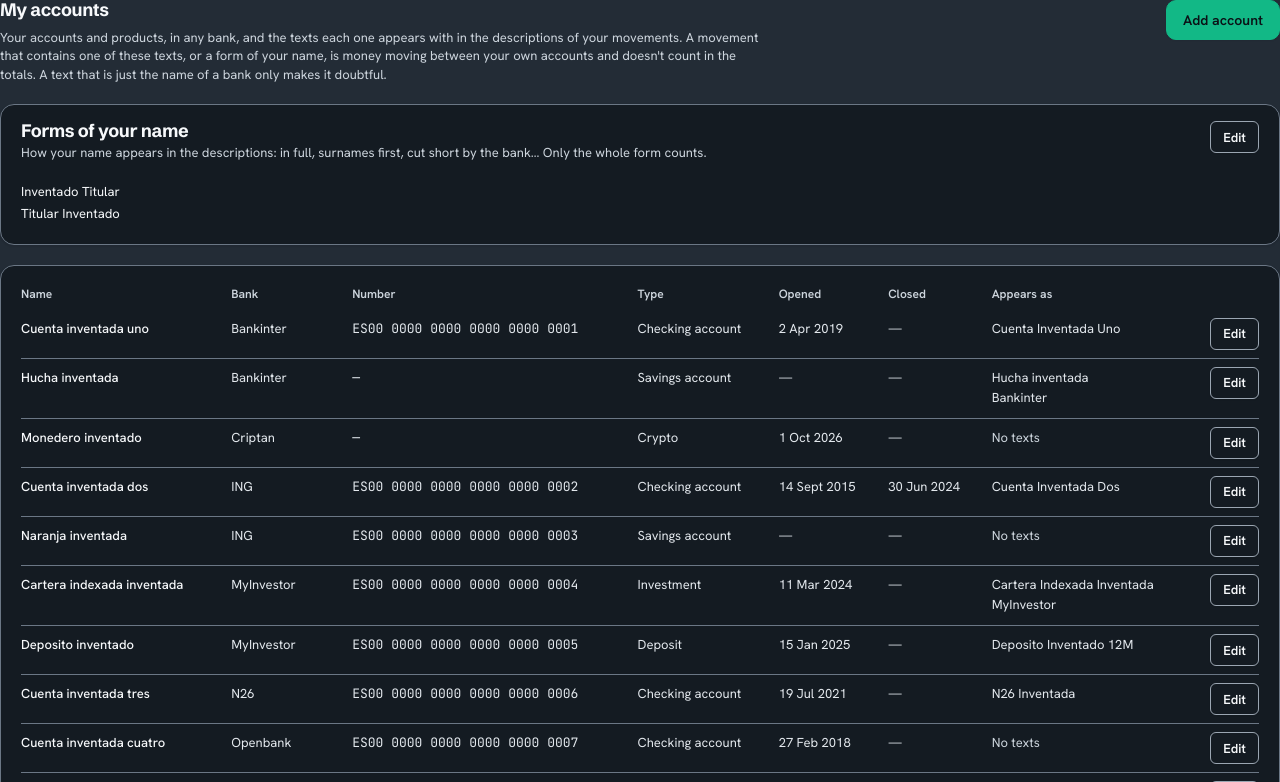
Test: OwnAccountsView › adding an account from the header button shows the new row
The image size is (1280, 782).
Click the button with test id "own-accounts-add" at (1223,20), box top-left (1166, 0), bottom-right (1279, 40)
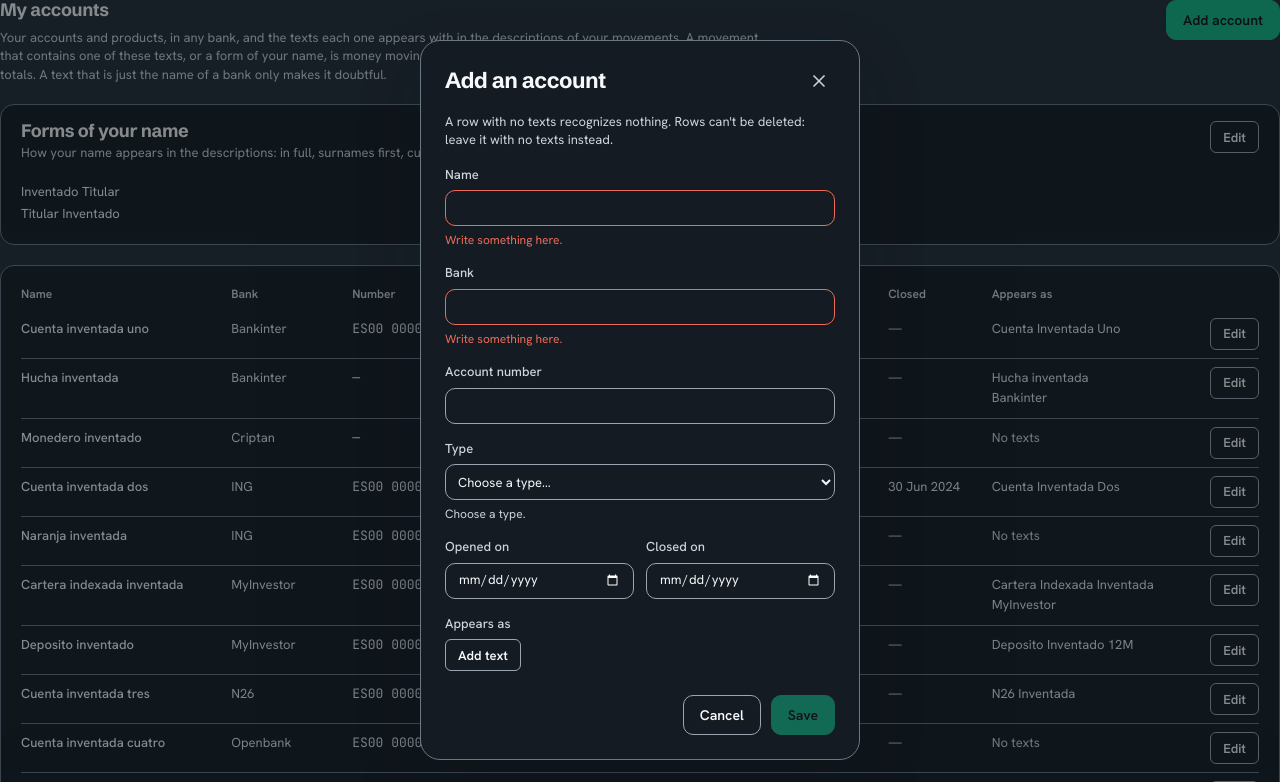
Check: the heading "Add an account" is shown, box top-left (445, 68), bottom-right (606, 93)
Type "Monedero inventado dos" into the field labelled "Name" at (640,208), box top-left (445, 190), bottom-right (835, 226)
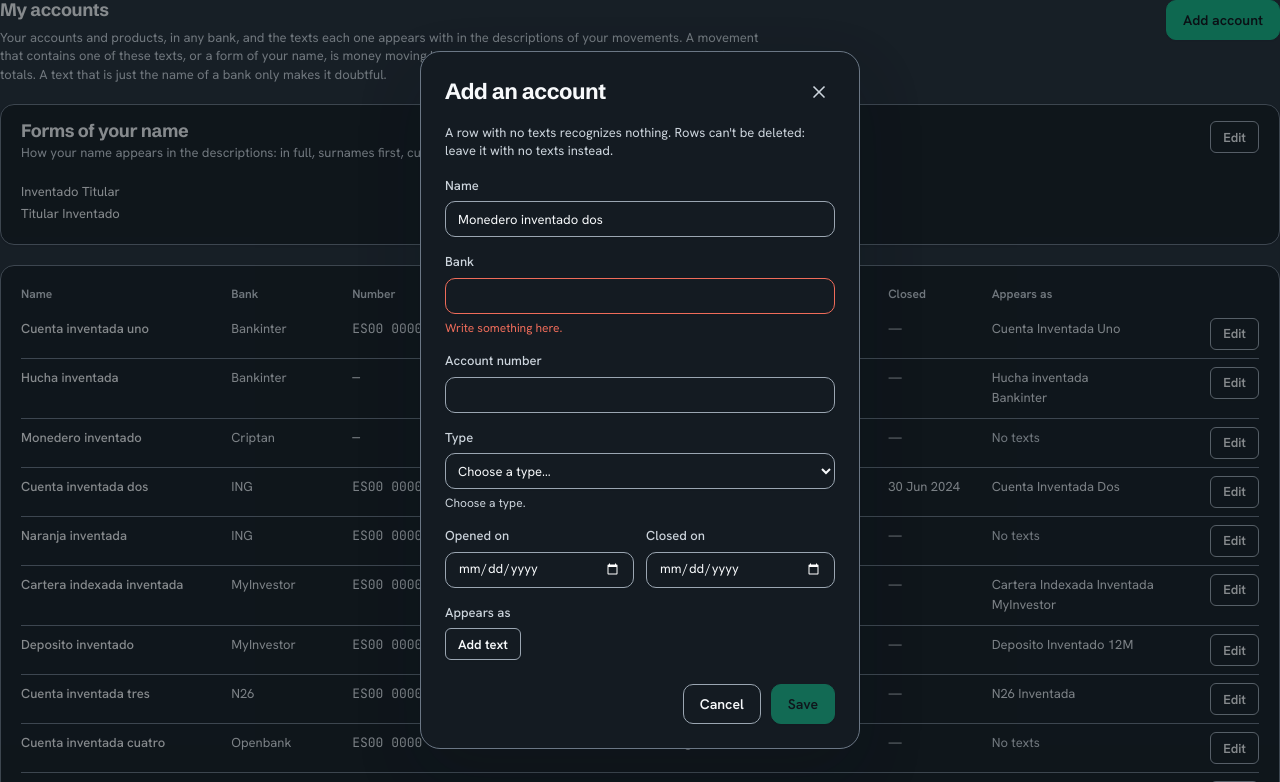
Type "Criptan" into the field labelled "Bank" at (640,296), box top-left (445, 278), bottom-right (835, 314)
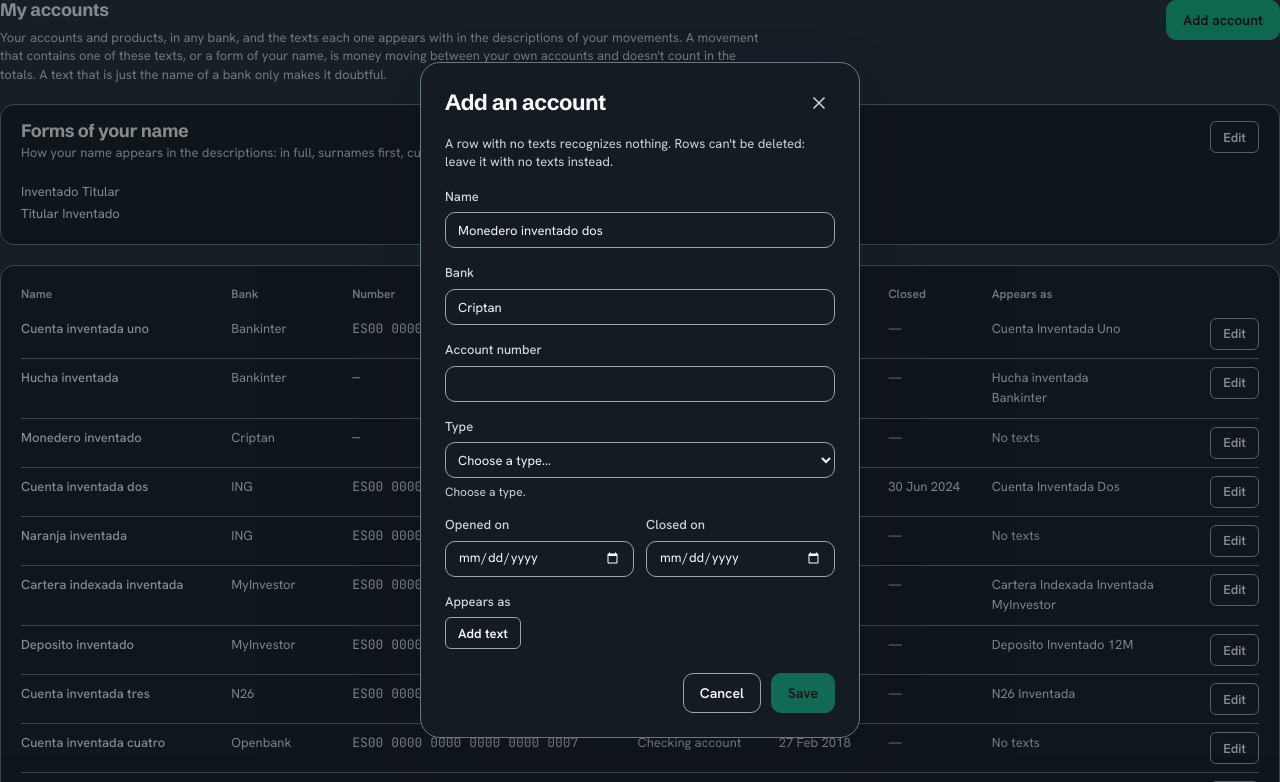
Select "Crypto" in the dropdown labelled "Type" at (640,460), box top-left (445, 442), bottom-right (835, 478)
Type "2026-10-21" into the date field labelled "Opened on" at (540,559), box top-left (445, 541), bottom-right (634, 577)
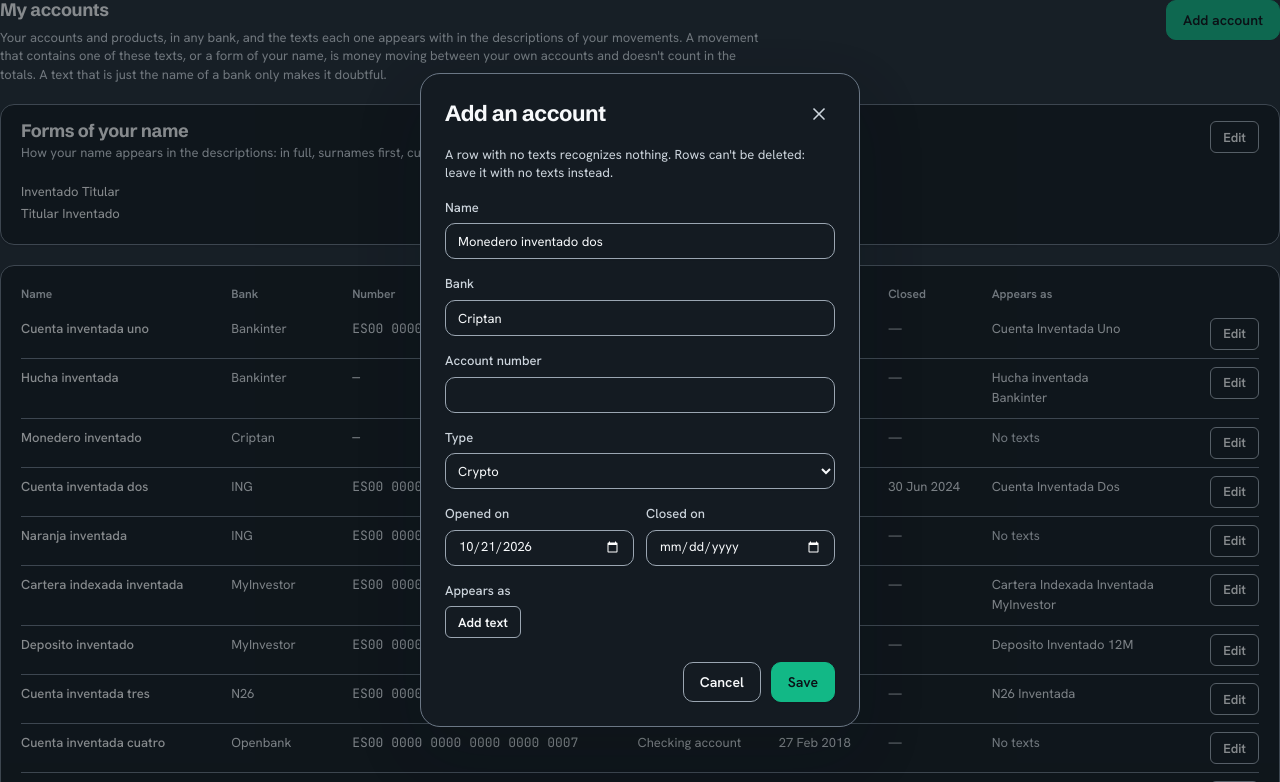
Click the button with test id "text-list-add" at (483,622), box top-left (445, 606), bottom-right (521, 638)
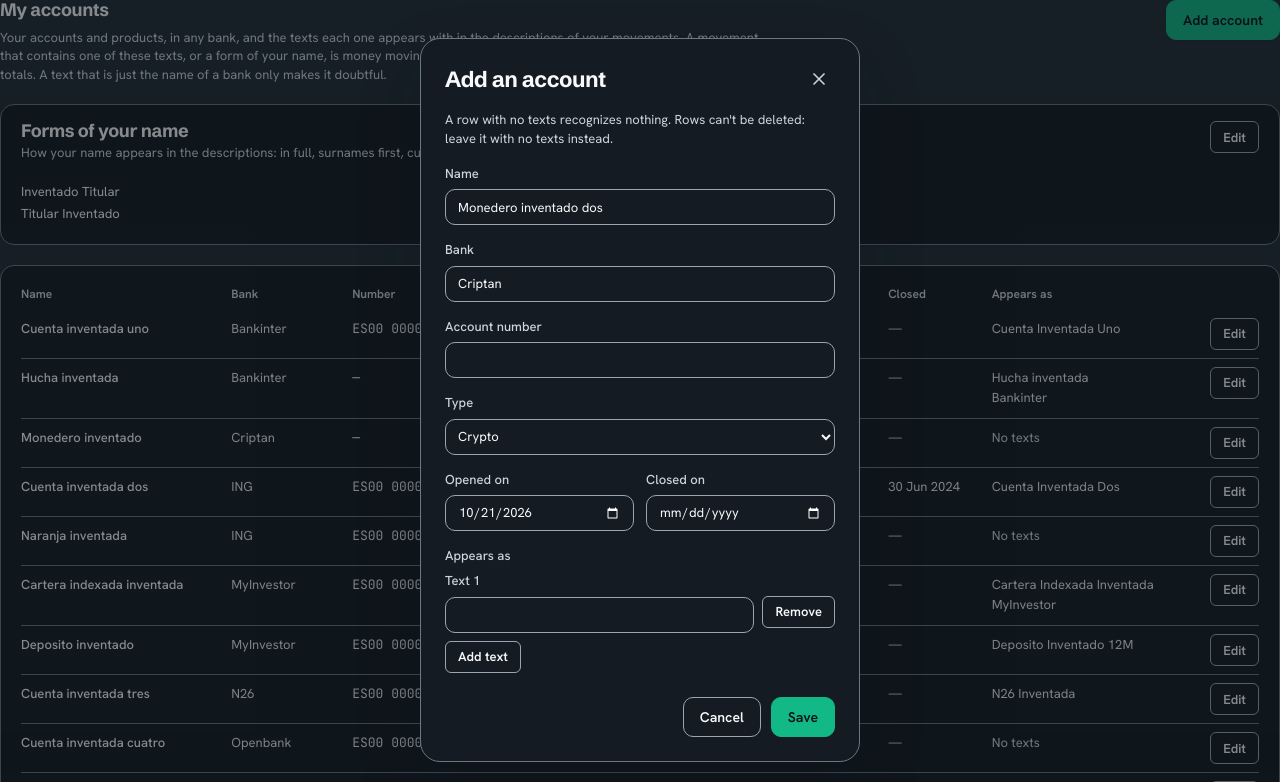
Type "Monedero Inventado Dos" into the field labelled "Text 1" at (600,614), box top-left (445, 596), bottom-right (754, 632)
Click the button with test id "account-save" at (803,716), box top-left (771, 696), bottom-right (835, 736)
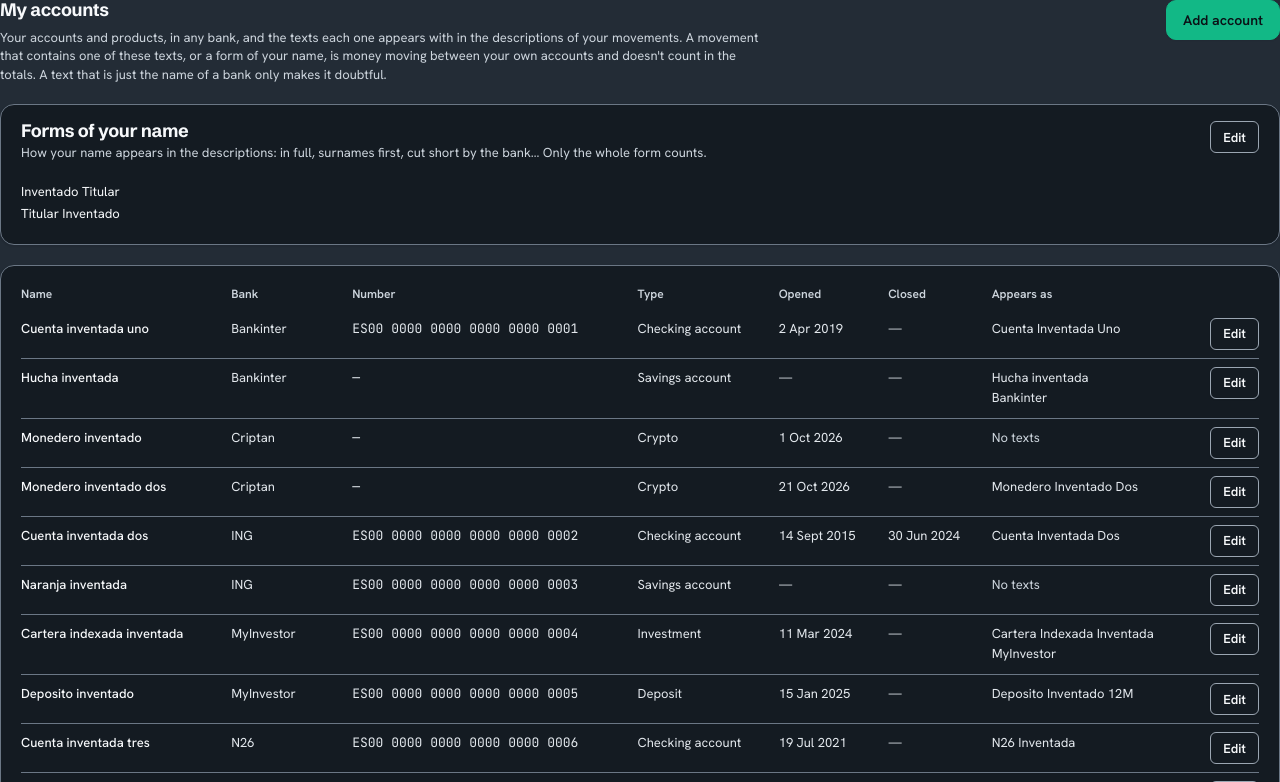
Check: the 1st cell "Criptan" is shown, box top-left (231, 418), bottom-right (352, 467)
Check: the dialog with test id "account-dialog" is gone
Check: the number of rows with test id "own-account-row" is 13
